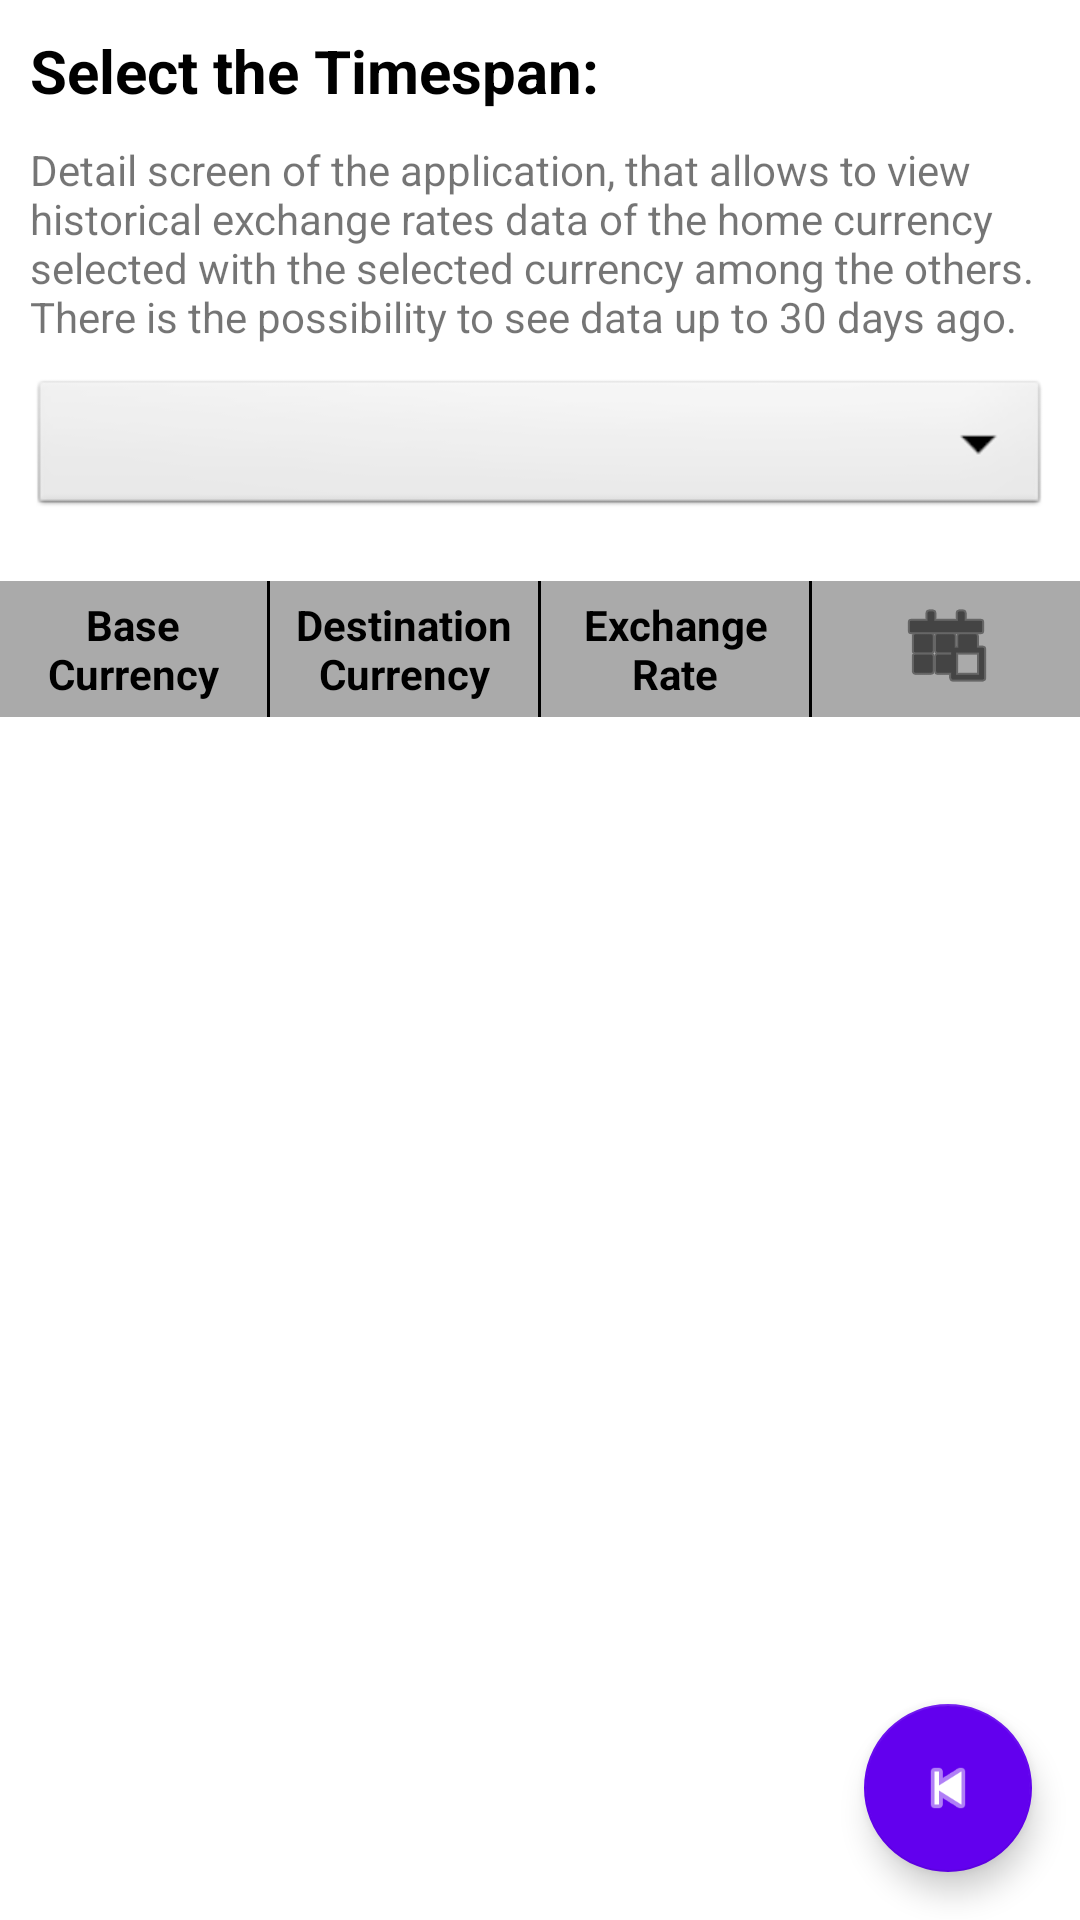

Where to tap for icons on this 1080px×1920px app screen, as [x,y]:
back: [948,1788]
today: [947,645]
